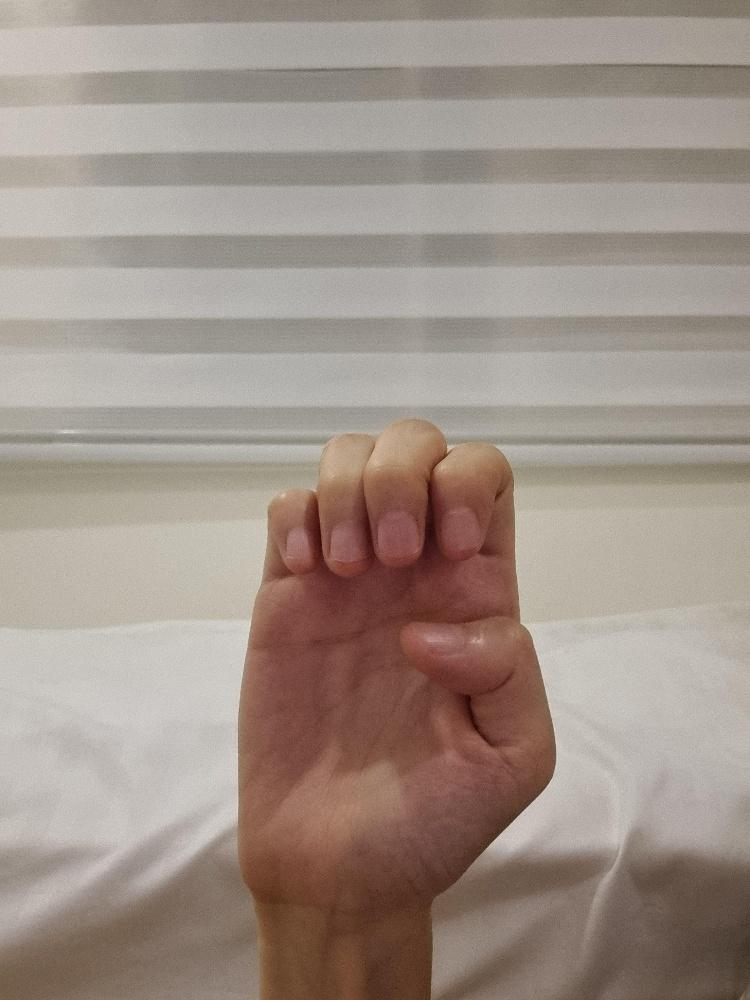e: (235, 417, 558, 911)
